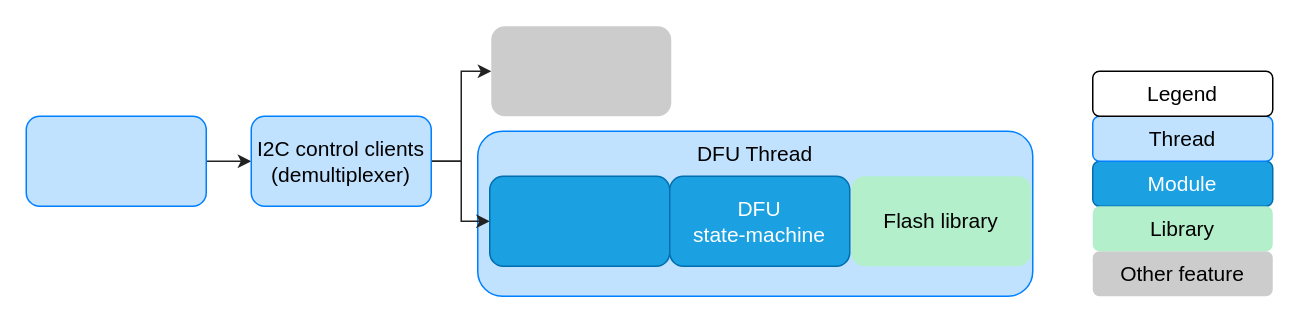
Image size: 1299x323. Some labels were removed from this diagram. The centre of each missing label's shape, as x and y in pixels:
"DFU (control server)" belongs at point (579, 220).
"I2C Slave" belongs at point (115, 160).
"Other Control server(s)" belongs at point (580, 71).
